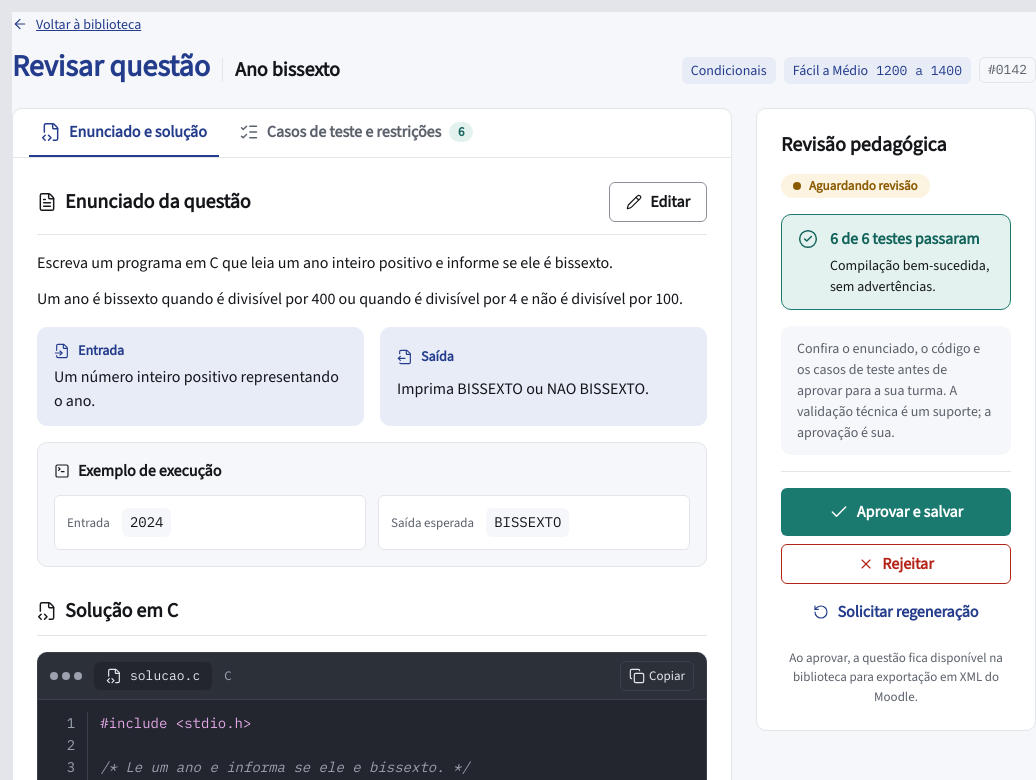
Test: ReviewView › edita o enunciado e salva
The width and height of the screenshot is (1036, 780).
Click the button "Editar" at point(658, 202), box [609,182,707,222]
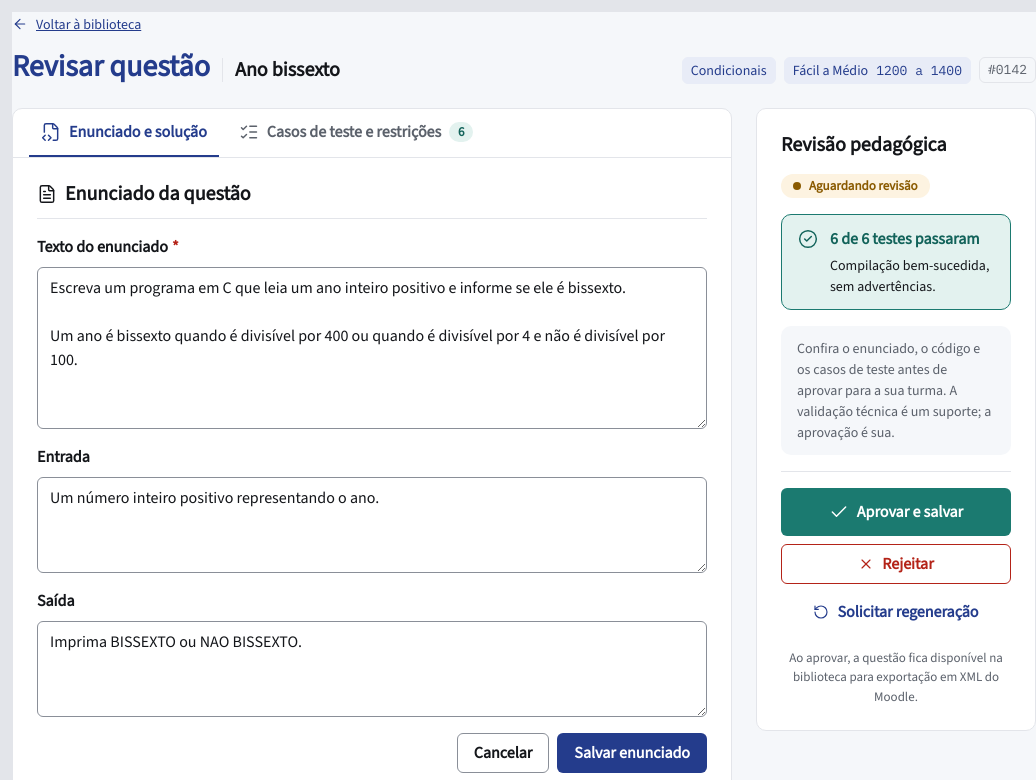
Replace the text in the text box labelled "Texto do enunciado*" with "Novo enunciado" at point(372, 348), box [37,267,707,429]
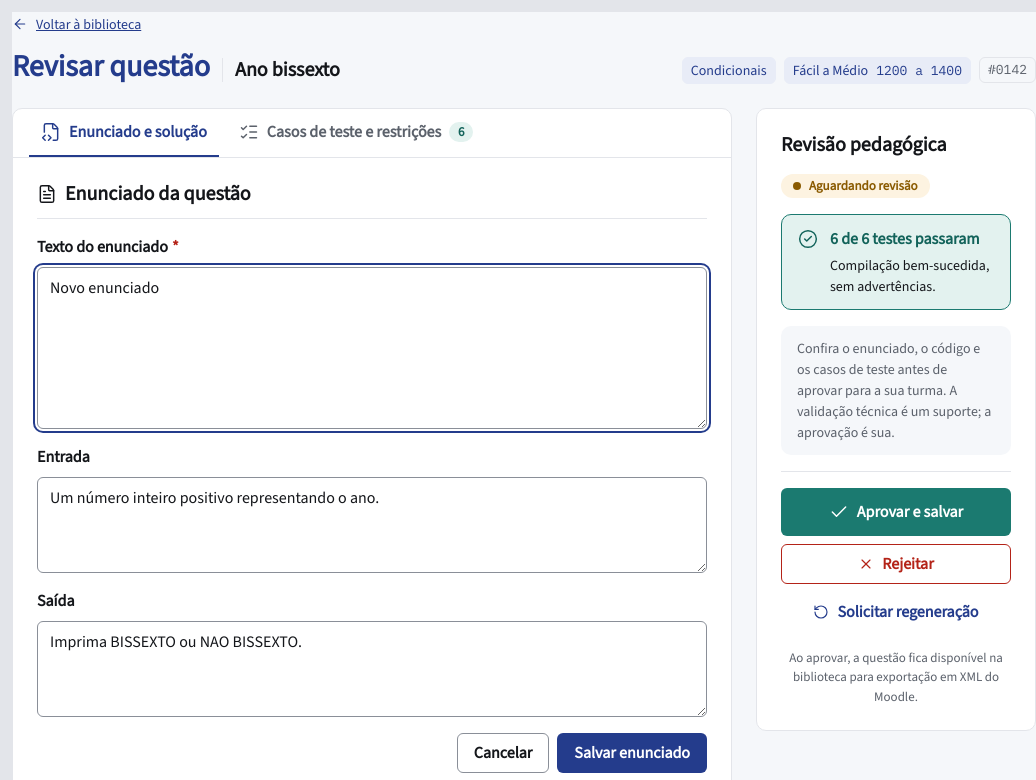
Click the button "Salvar enunciado" at point(632, 753), box [557,733,707,773]
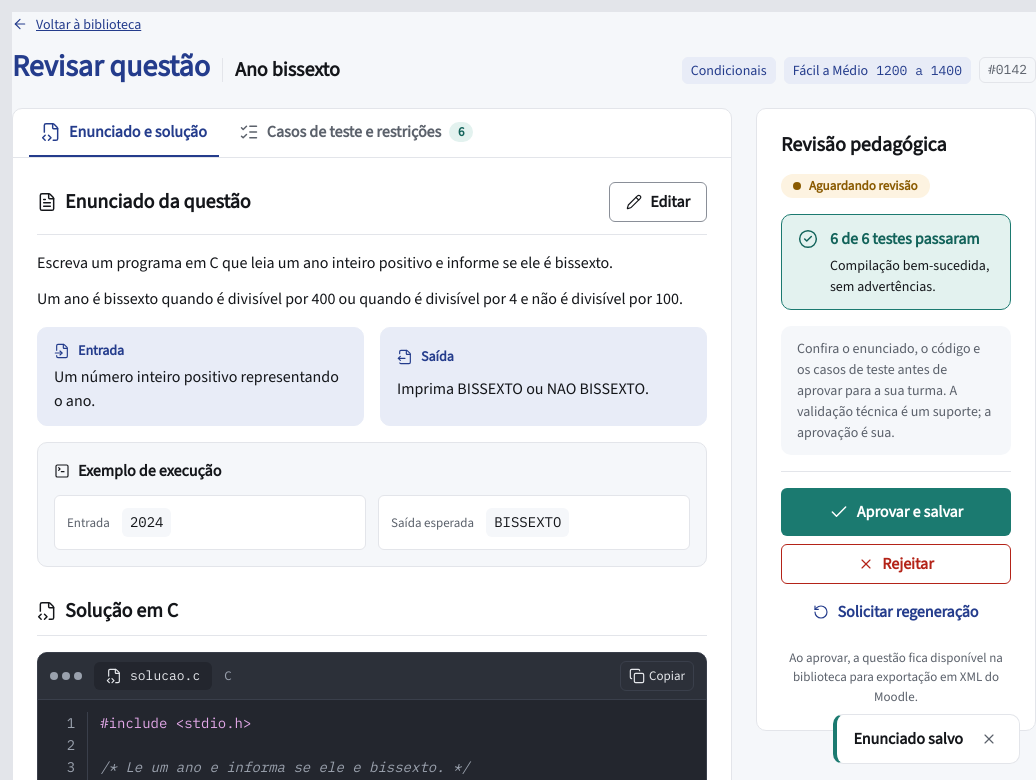
Check: the text "Enunciado salvo" is shown, box [853,727,963,751]
